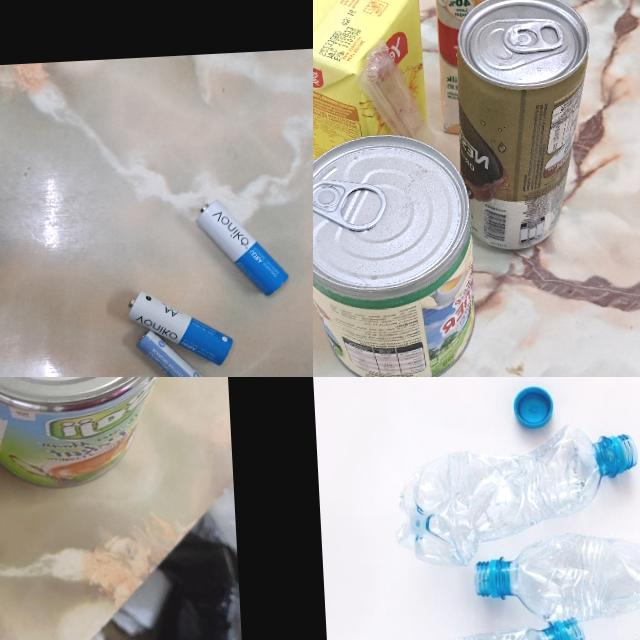aba de lata: (313, 175, 388, 234), (501, 18, 561, 56)
bateria: (194, 197, 289, 300), (127, 286, 234, 370), (134, 326, 219, 377)
caixinha: (429, 0, 579, 140), (313, 0, 427, 166)
garrafa plástica: (390, 419, 640, 569), (474, 526, 640, 623)
lata: (313, 128, 479, 377), (447, 0, 601, 252), (0, 377, 188, 493)
tampa plástica: (512, 384, 556, 432)
